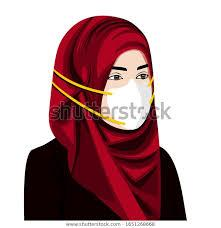Wearing Mask: (47, 9, 182, 150)
